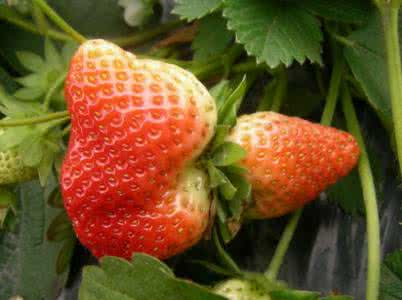strawberry: (59, 39, 216, 258), (215, 80, 362, 227)
